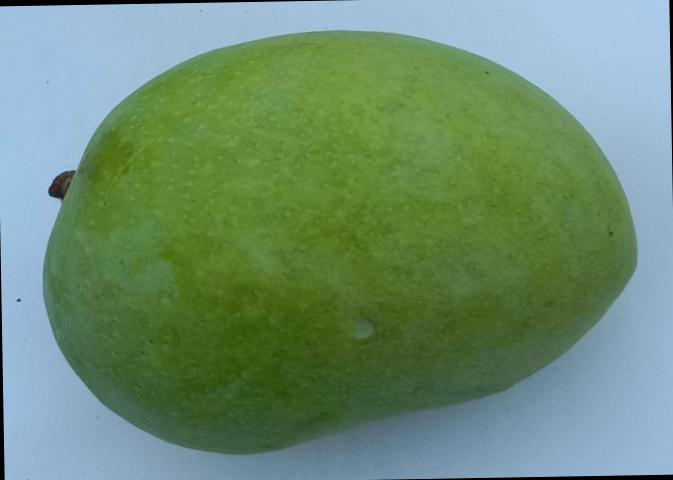Mango Unripe: (12, 6, 664, 470)
